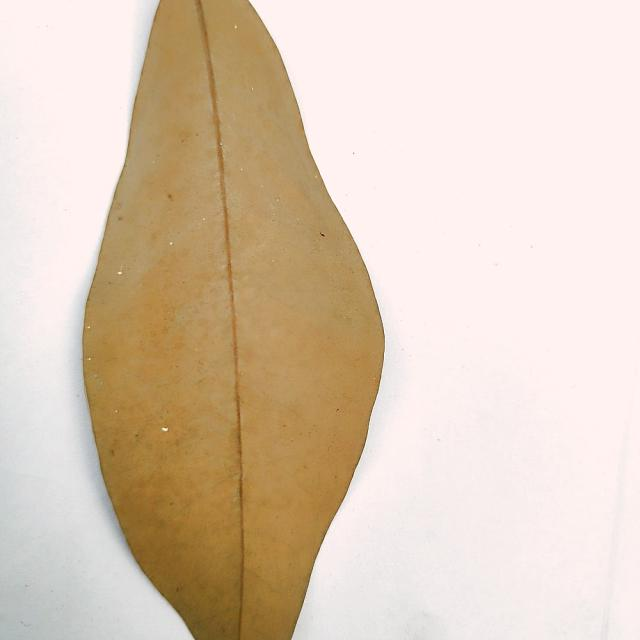Dry_Leaf-Lychee: (81, 0, 386, 639)
